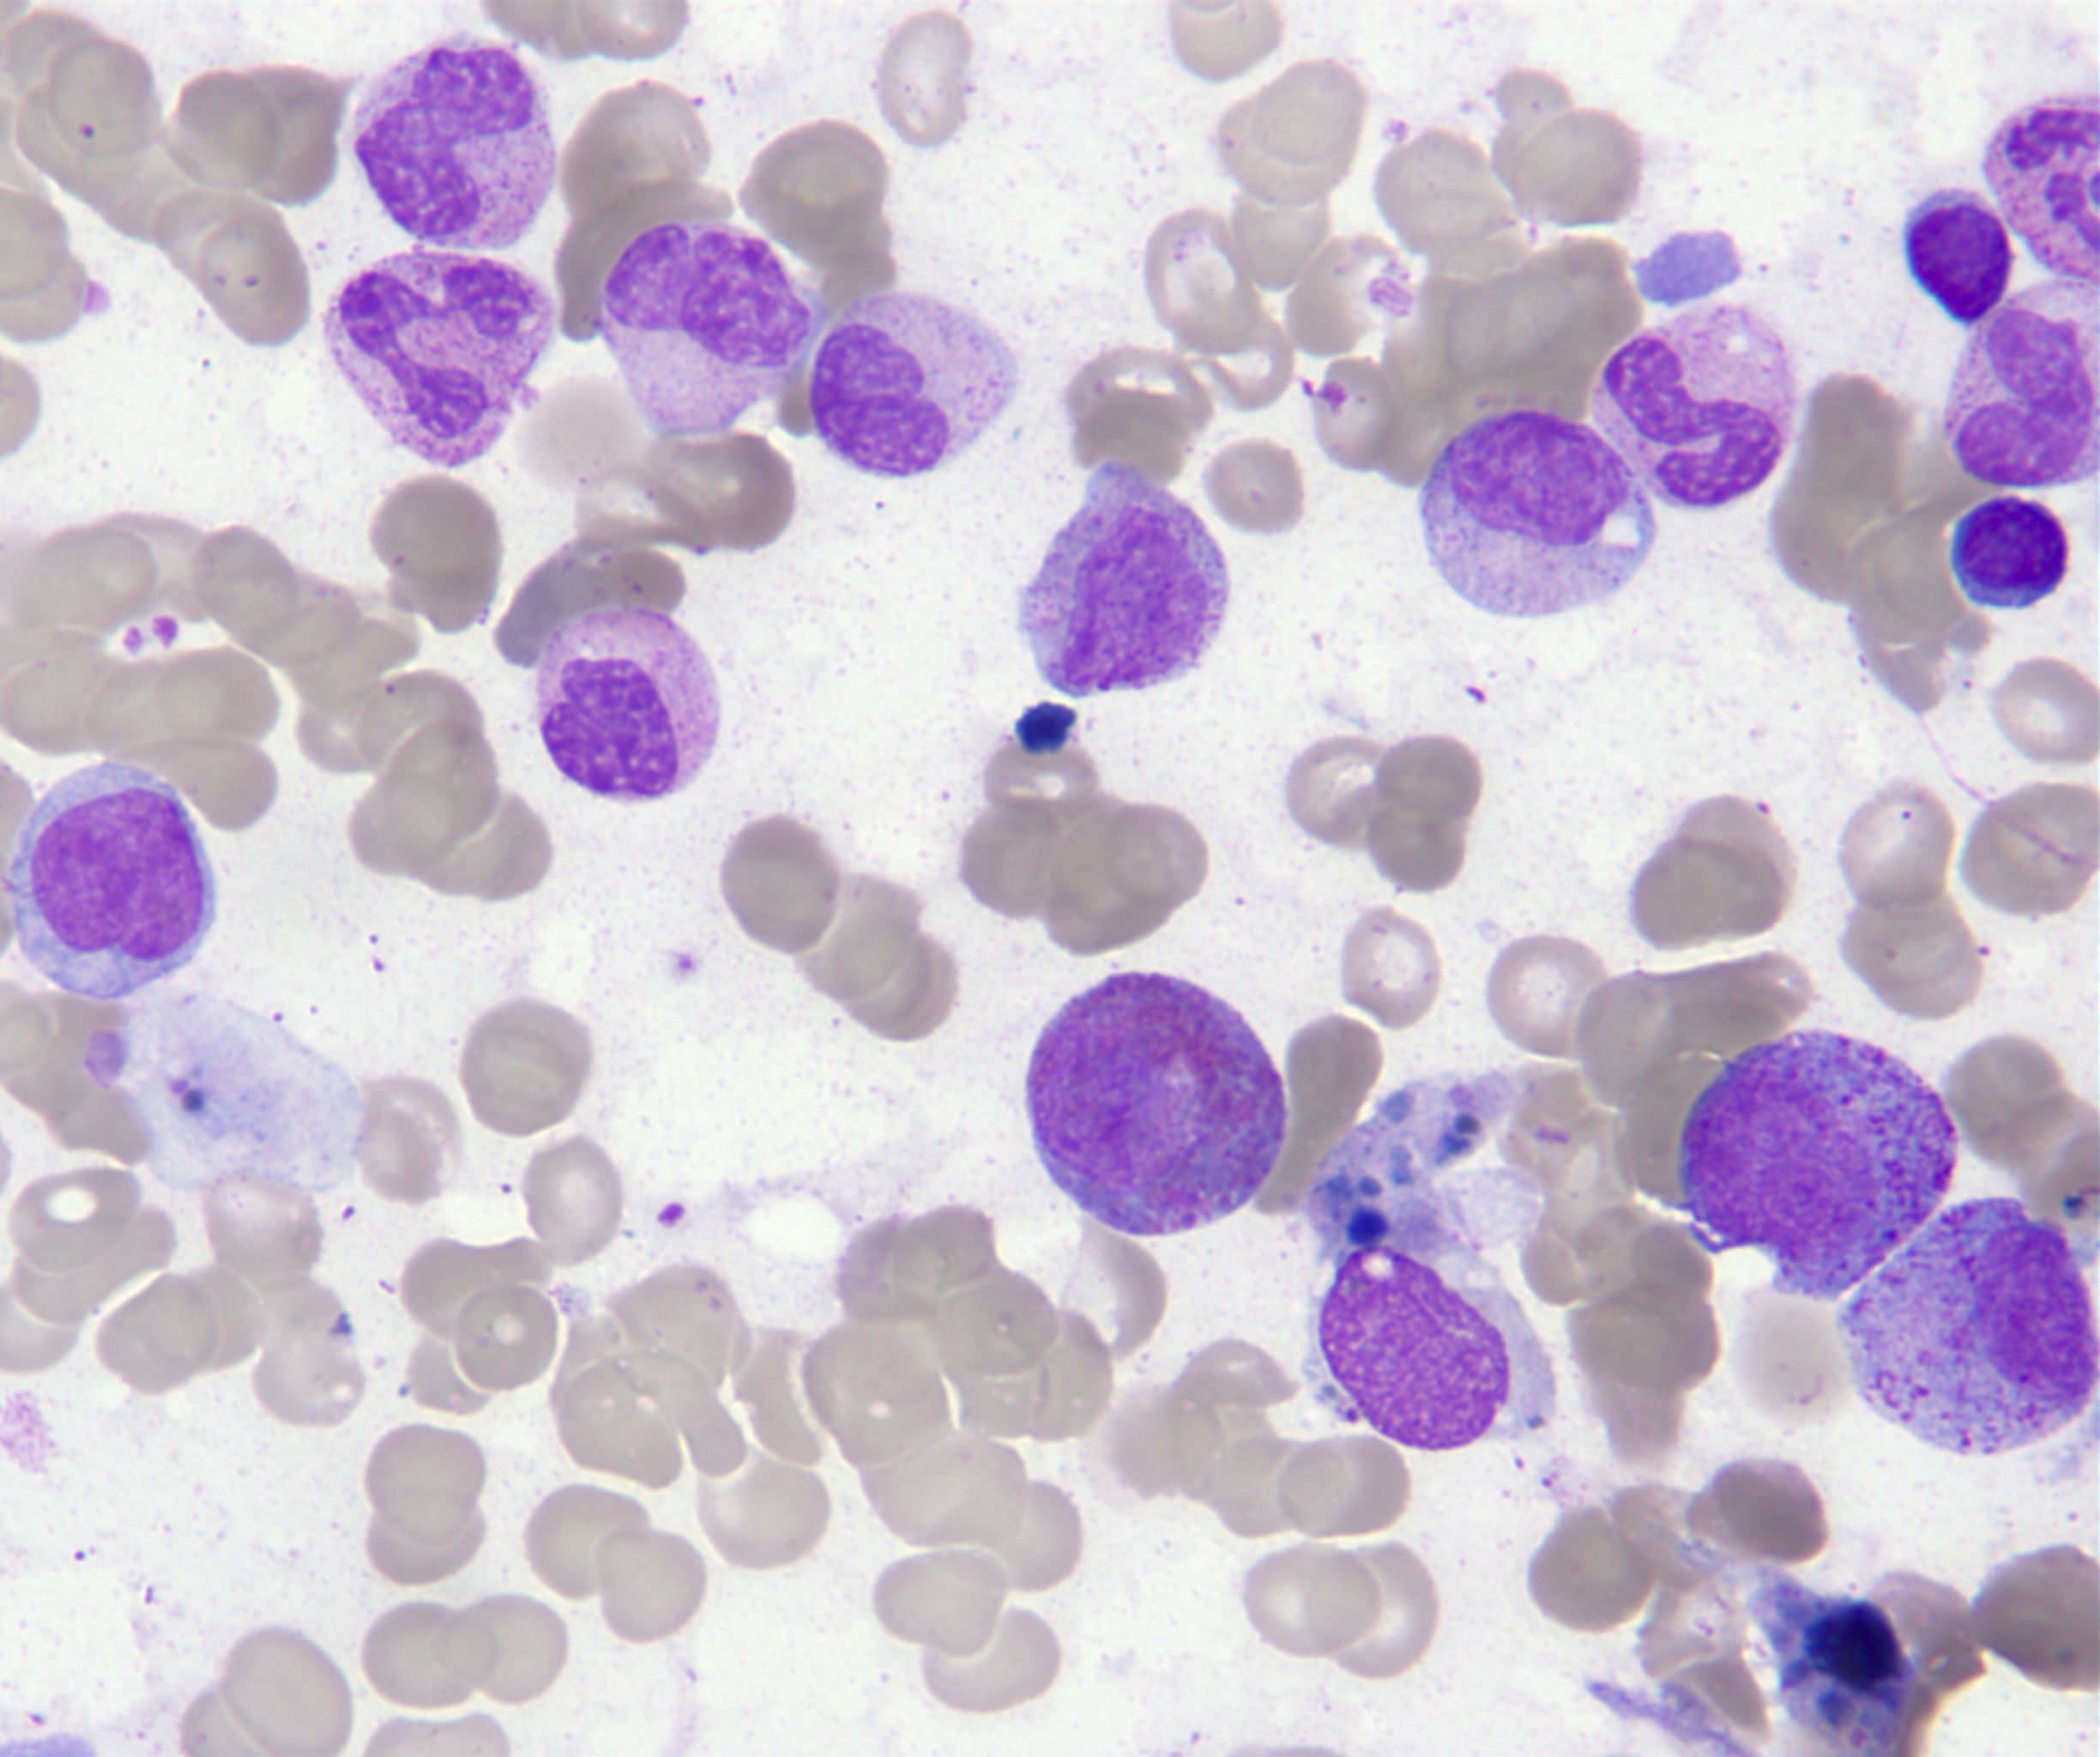3: (1680, 1029, 1955, 1296), (1835, 1199, 2100, 1455), (1017, 466, 1226, 696), (12, 764, 218, 998), (1422, 412, 1653, 618)
32: (1903, 190, 2013, 326), (1953, 497, 2067, 609)
5: (1027, 974, 1287, 1237), (352, 33, 560, 250), (1591, 302, 1797, 509), (1943, 279, 2100, 487)
6: (324, 253, 551, 466), (600, 223, 816, 440), (808, 297, 1015, 478), (539, 607, 720, 801)
x: (1303, 1071, 1559, 1455)
